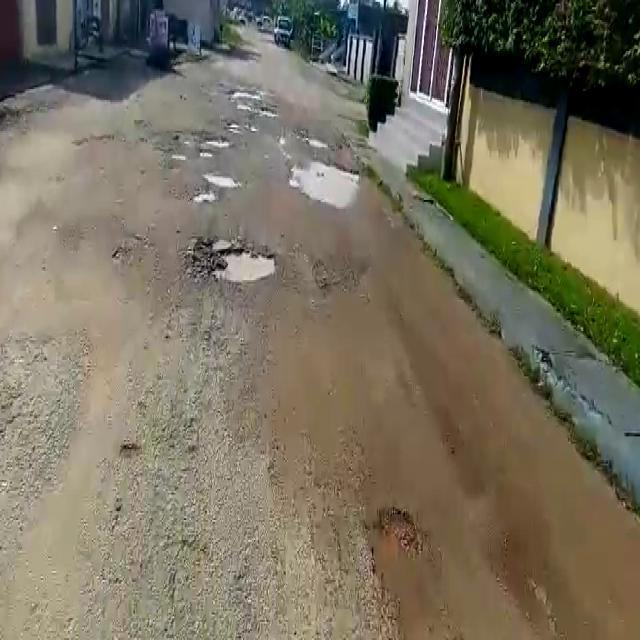pothole: (193, 236, 279, 287), (290, 159, 360, 209), (370, 505, 420, 562), (110, 240, 148, 267), (202, 173, 242, 188), (193, 136, 230, 149), (193, 192, 218, 205)
